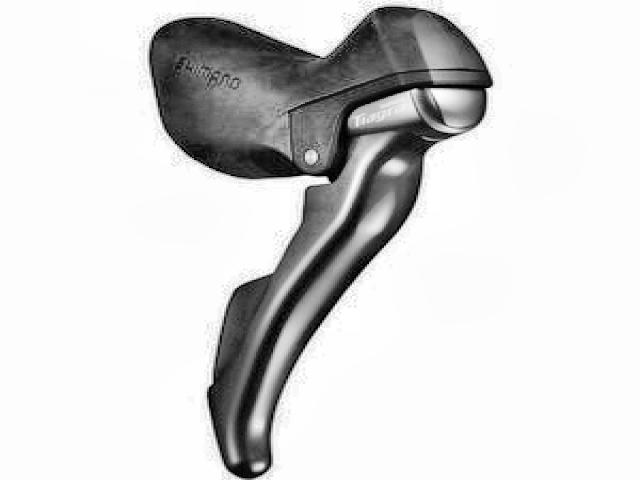sti_shifter: (150, 5, 501, 478)
